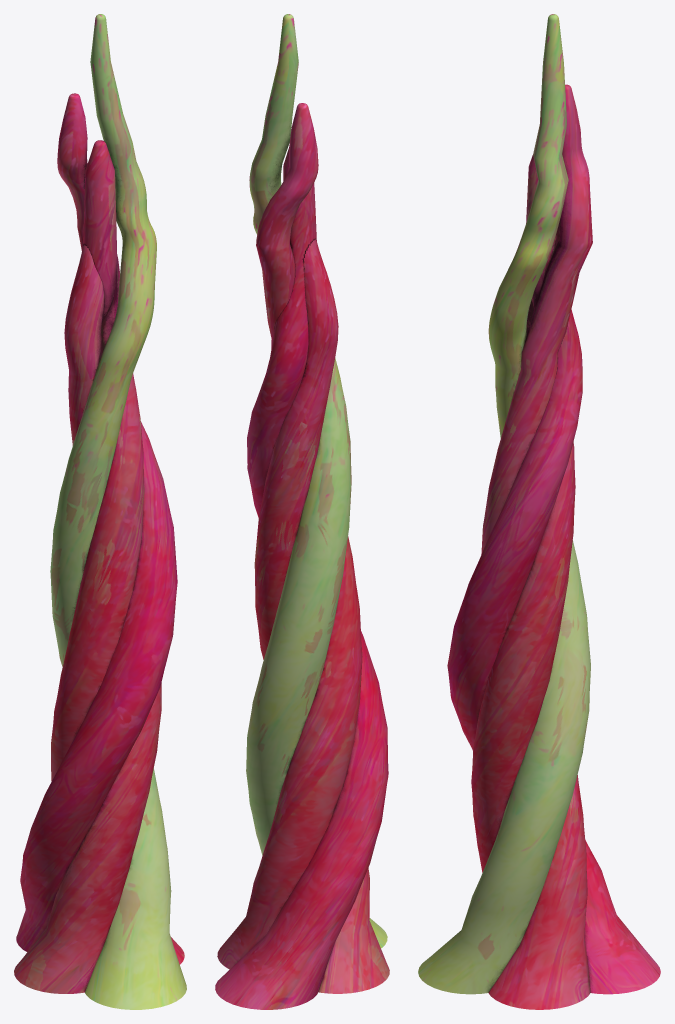
Rendered from BAUM5.fbx.
The picture shows the model from 3 angles, left to right: view 1: azimuth 30°, elevation 25°; view 2: azimuth 150°, elevation 25°; view 3: azimuth 270°, elevation 25°; orthographic projection.
Parts seen in each view (by area): view 1: Baum5; view 2: Baum5; view 3: Baum5.
Part boxes in pixels (box(x1,y1,x2,y2)): Baum5: box(14, 14, 186, 1009); Baum5: box(215, 14, 389, 1009); Baum5: box(418, 14, 660, 1009).
Bounding box in the file's own units: 113 × 647 × 148.
